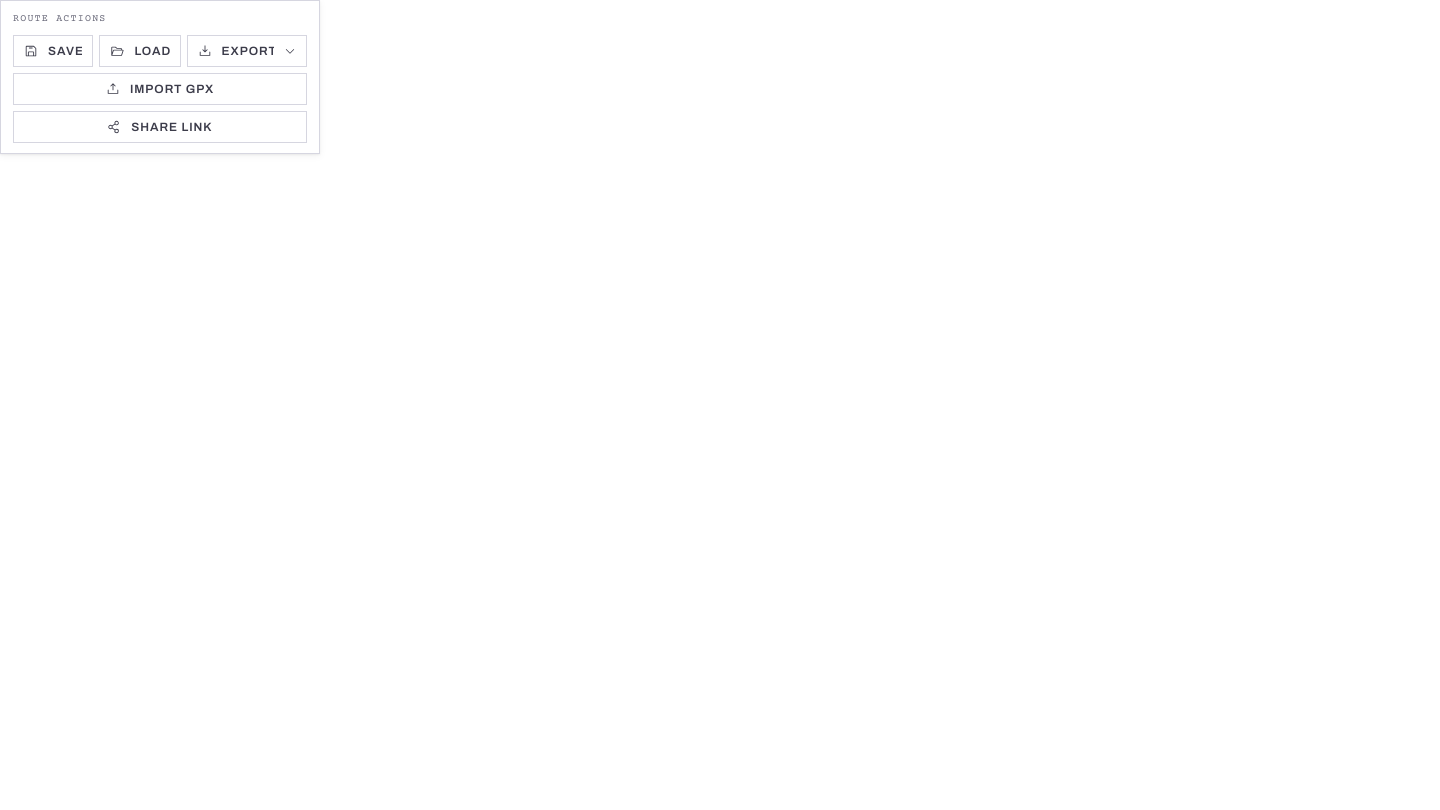
it: RouteActionsPanel › guest gate › opens the guest signup modal instead of the save modal when there is no user
The width and height of the screenshot is (1440, 810).
Click the button with test id "rb2-save-route-button".
click(53, 50)  # box [13,34,93,66]
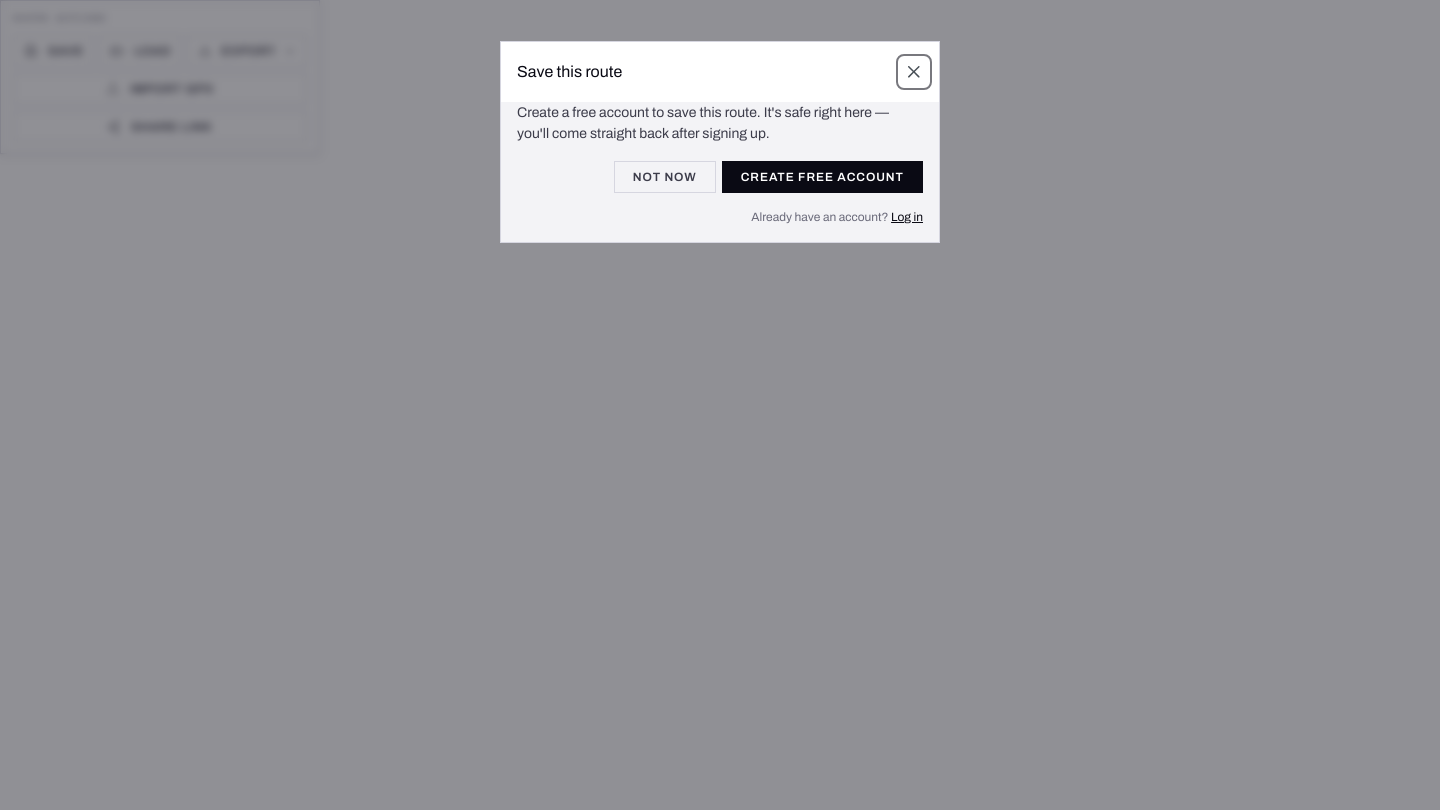
Check: the button with test id "rb2-guest-modal-signup" is shown, box [722,161,923,193]
